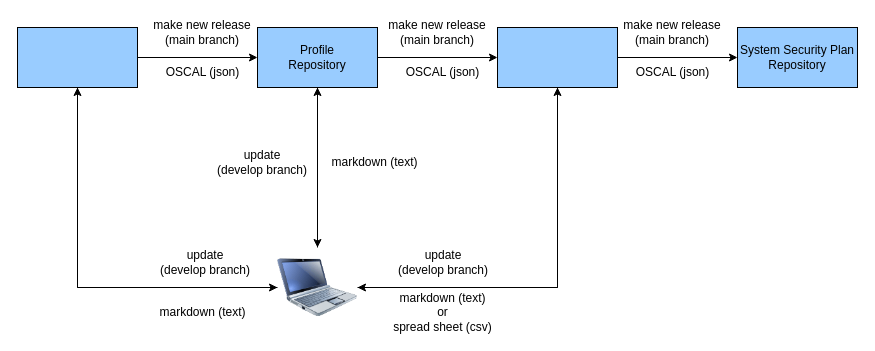
Some shapes in this 875 by 351 pixel diagram are drawn without their labels. Here are the shapes that lost their labels. From the top down, the centre of each, then its label:
the point at 77,57: Catalog Repository
the point at 557,57: Component Definition Repository
